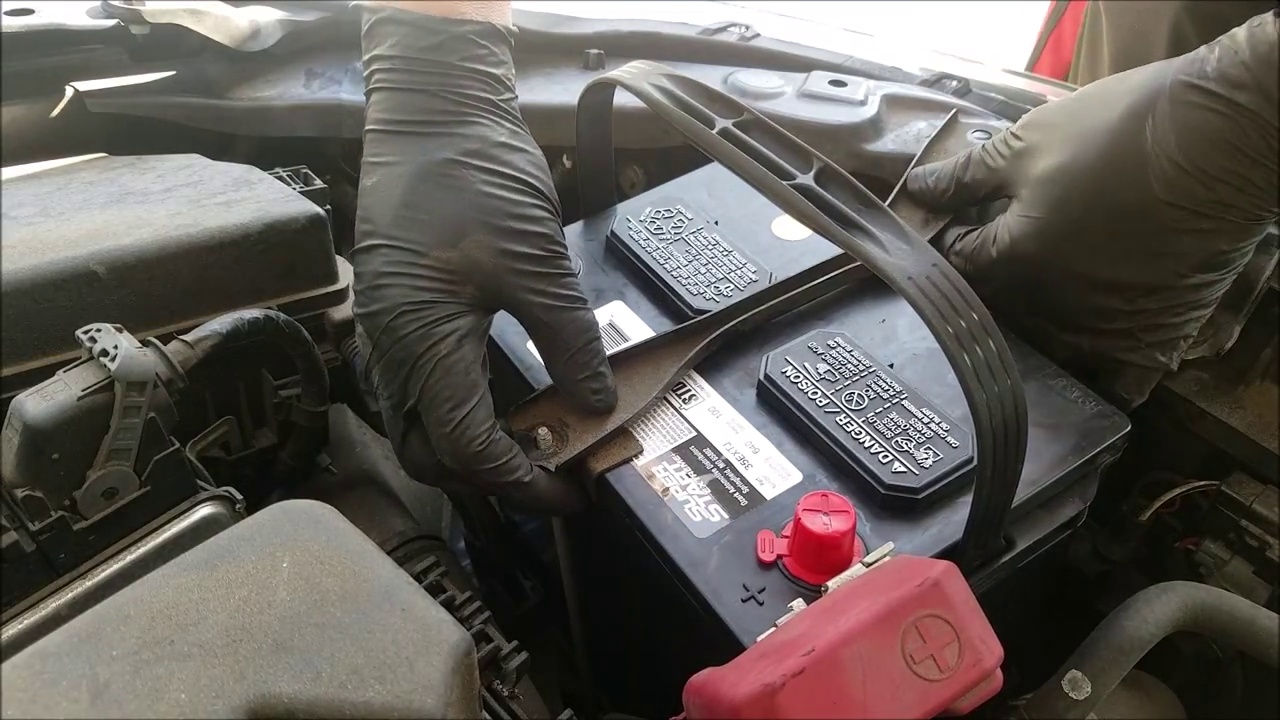battery: (461, 147, 1136, 658)
pos_disconnected: (703, 436, 984, 718)
